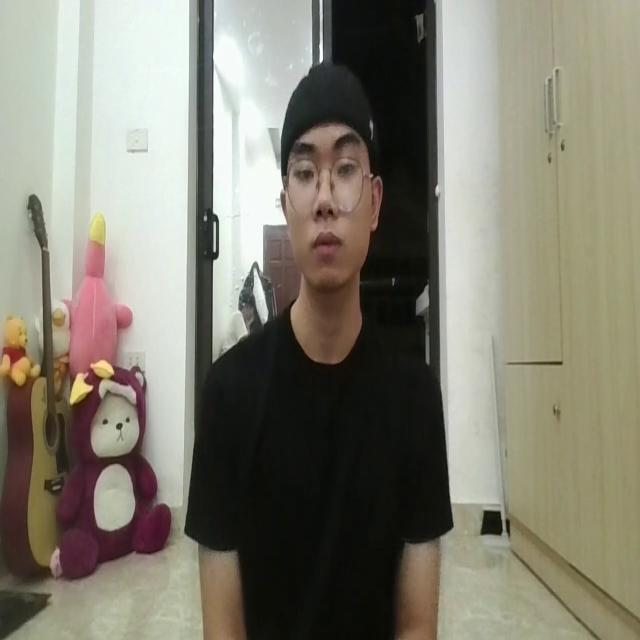student: (192, 46, 446, 640)
